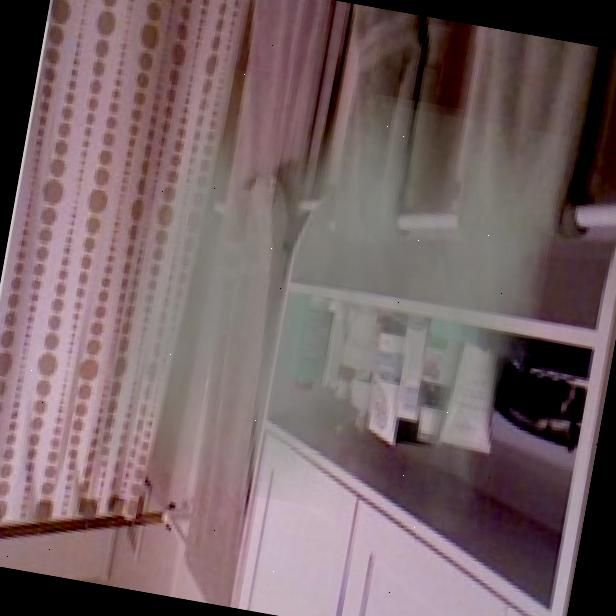smoke: (91, 56, 572, 539)
